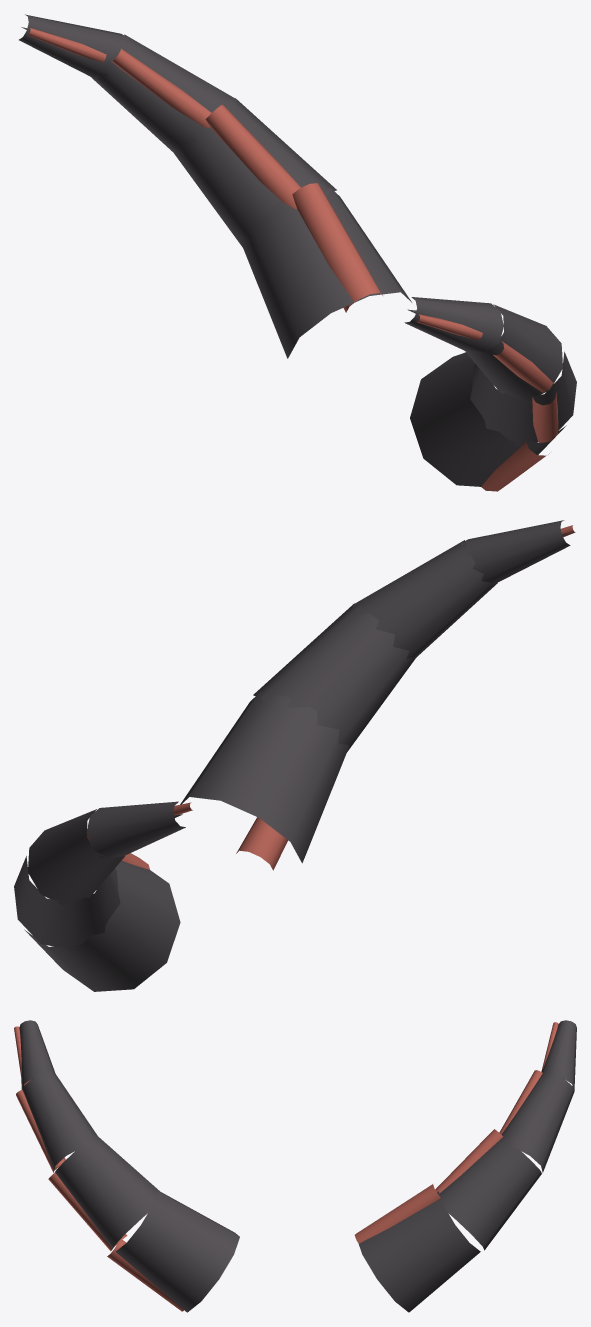
The model's file is devil-horns.glb.
The picture shows the model from 3 angles, top to bottom: view 1: azimuth 30°, elevation 25°; view 2: azimuth 150°, elevation 25°; view 3: azimuth 270°, elevation 25°; orthographic projection. The views are drawn at different scales.
Visible parts, largest first — view 1: hat-devil-horns; view 2: hat-devil-horns; view 3: hat-devil-horns.
Boxes of the visible parts, bbox=[...] form: hat-devil-horns: bbox=[19, 14, 576, 491]; hat-devil-horns: bbox=[14, 520, 575, 991]; hat-devil-horns: bbox=[14, 1020, 576, 1312].
Bounding box in the file's own units: 0.1127 × 0.1323 × 0.3012.
